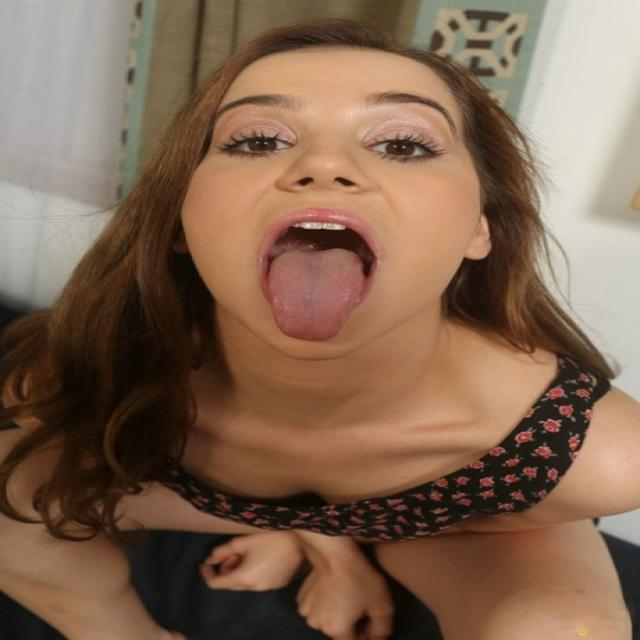tongue: (260, 237, 371, 352)
